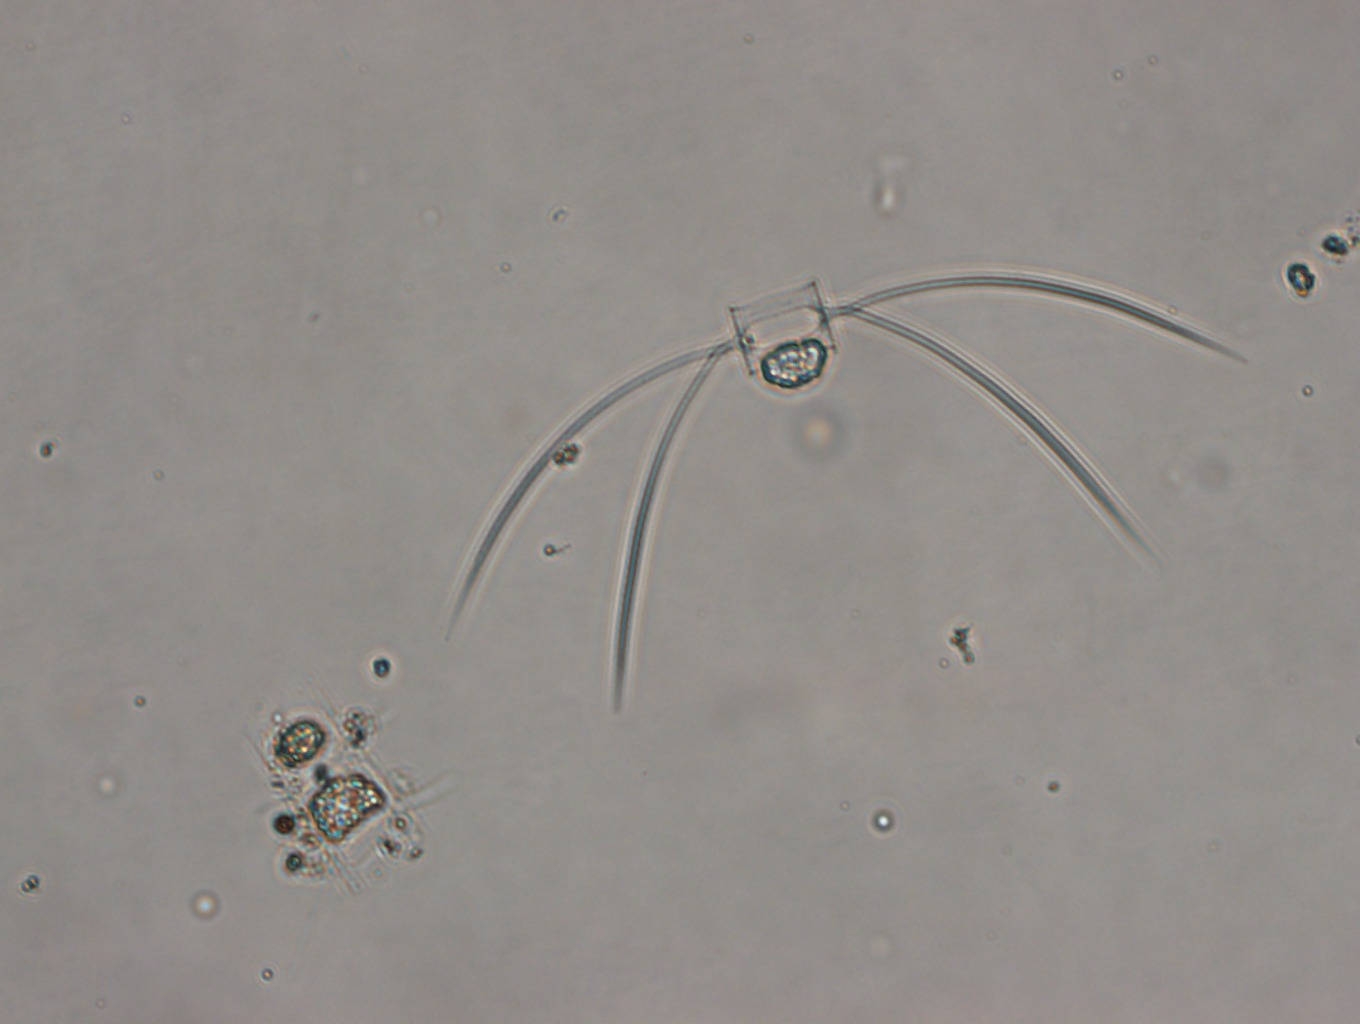chaetoceros: (444, 272, 1250, 714), (237, 685, 450, 899)
